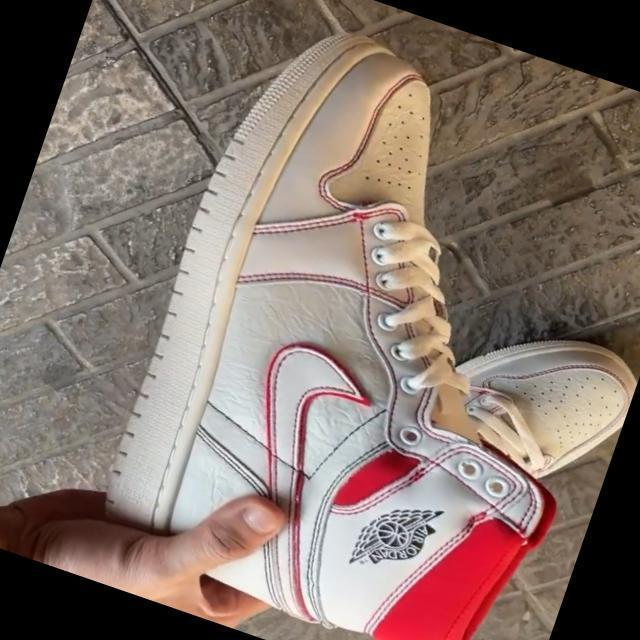nike fake jordan 1: (77, 0, 640, 640), (188, 237, 640, 640)
